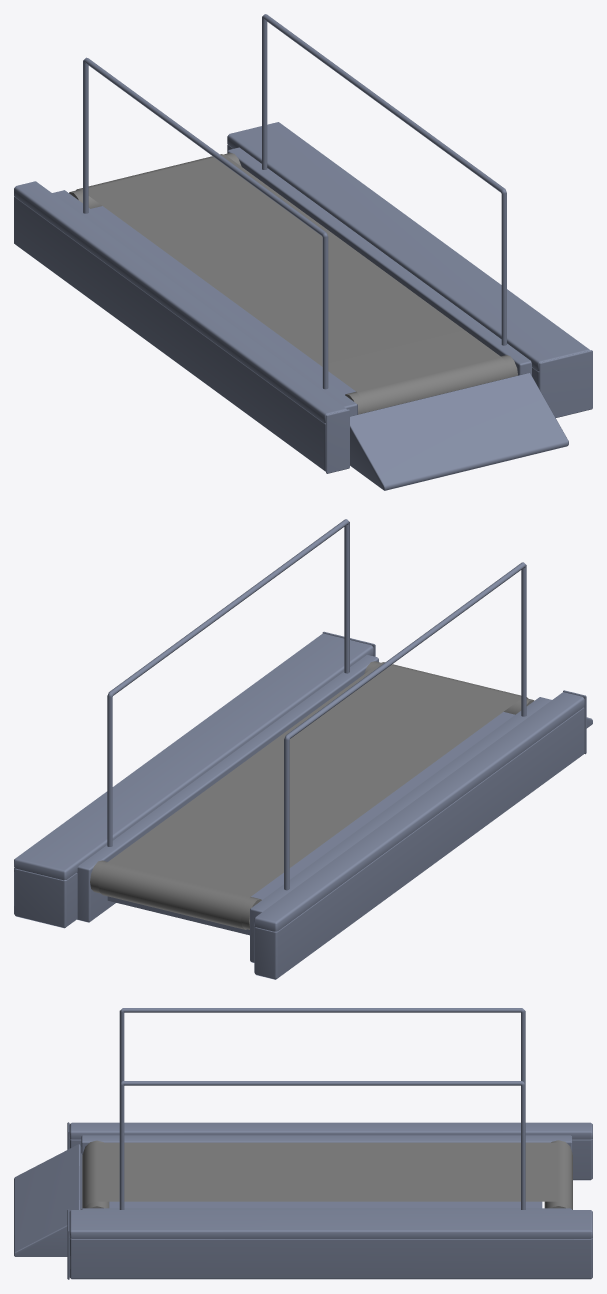
The model's file is TReadMill.fbx.
3 views of the same model, one above another, from view 1: azimuth 30°, elevation 25°; view 2: azimuth 150°, elevation 25°; view 3: azimuth 270°, elevation 25° (orthographic). The views are drawn at different scales.
Parts seen in each view (by area): view 1: Cylinder067, Object083; view 2: Cylinder067, Object083; view 3: Cylinder067, Object083.
Part boxes in pixels (bbox=[...]): Cylinder067: bbox=[14, 14, 592, 490]; Object083: bbox=[69, 153, 517, 414]; Cylinder067: bbox=[14, 519, 592, 979]; Object083: bbox=[90, 661, 534, 929]; Cylinder067: bbox=[14, 1008, 592, 1279]; Object083: bbox=[82, 1140, 572, 1209].
Size of the model in its own units: 148 by 111 by 332.
